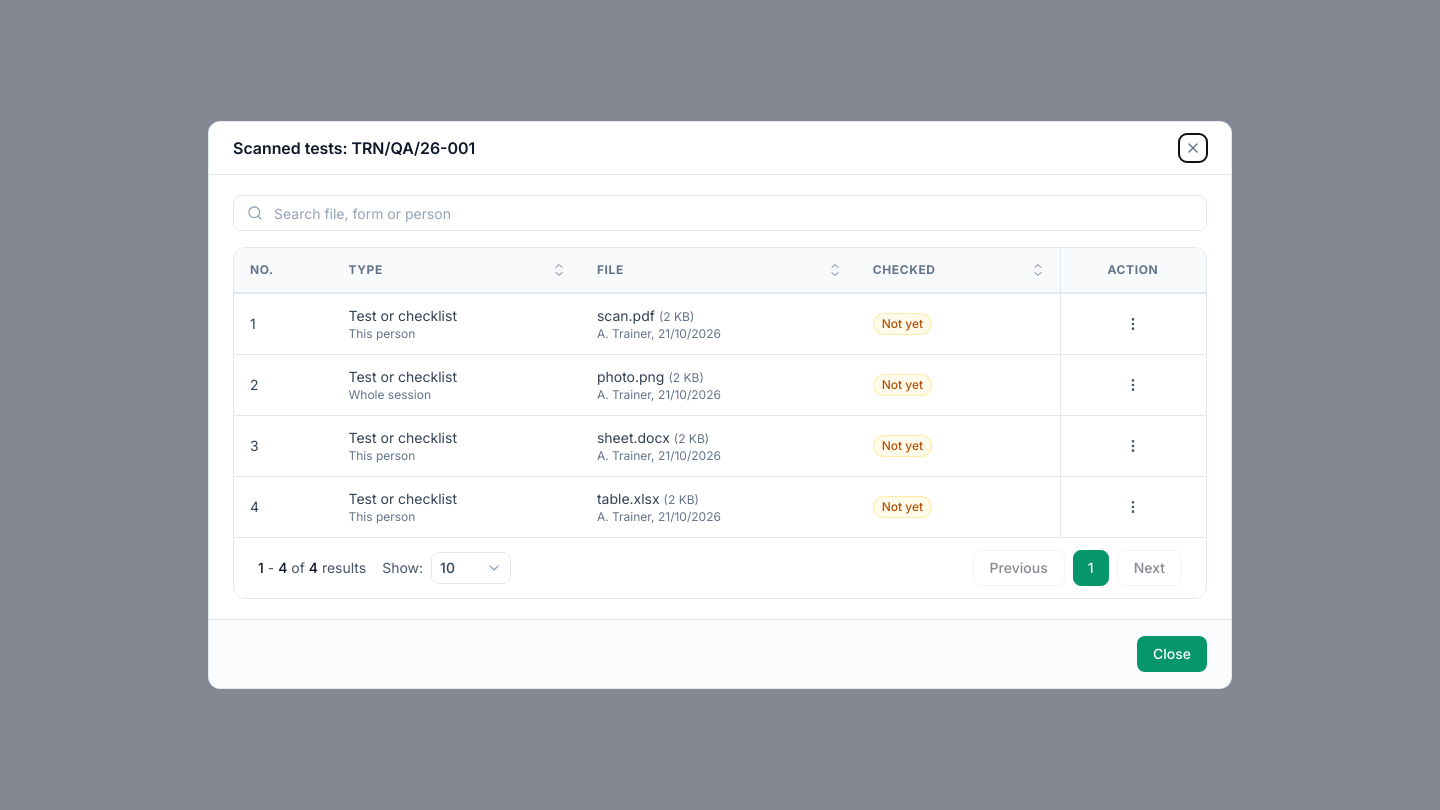
TrainingScannedTestsModal › puts View and Download in the menu of the row, and offers View only for a PDF, a picture and a Word file
The image size is (1440, 810).
Expected: the text "scan.pdf (2 KB)" is shown, left=597, top=307, right=694, bottom=324
Expected: the text "Whole session" is shown, left=348, top=387, right=431, bottom=402
Step 1. Click the button named "More actions" in the row of "scan.pdf" → (1133, 324), box left=1117, top=308, right=1149, bottom=340
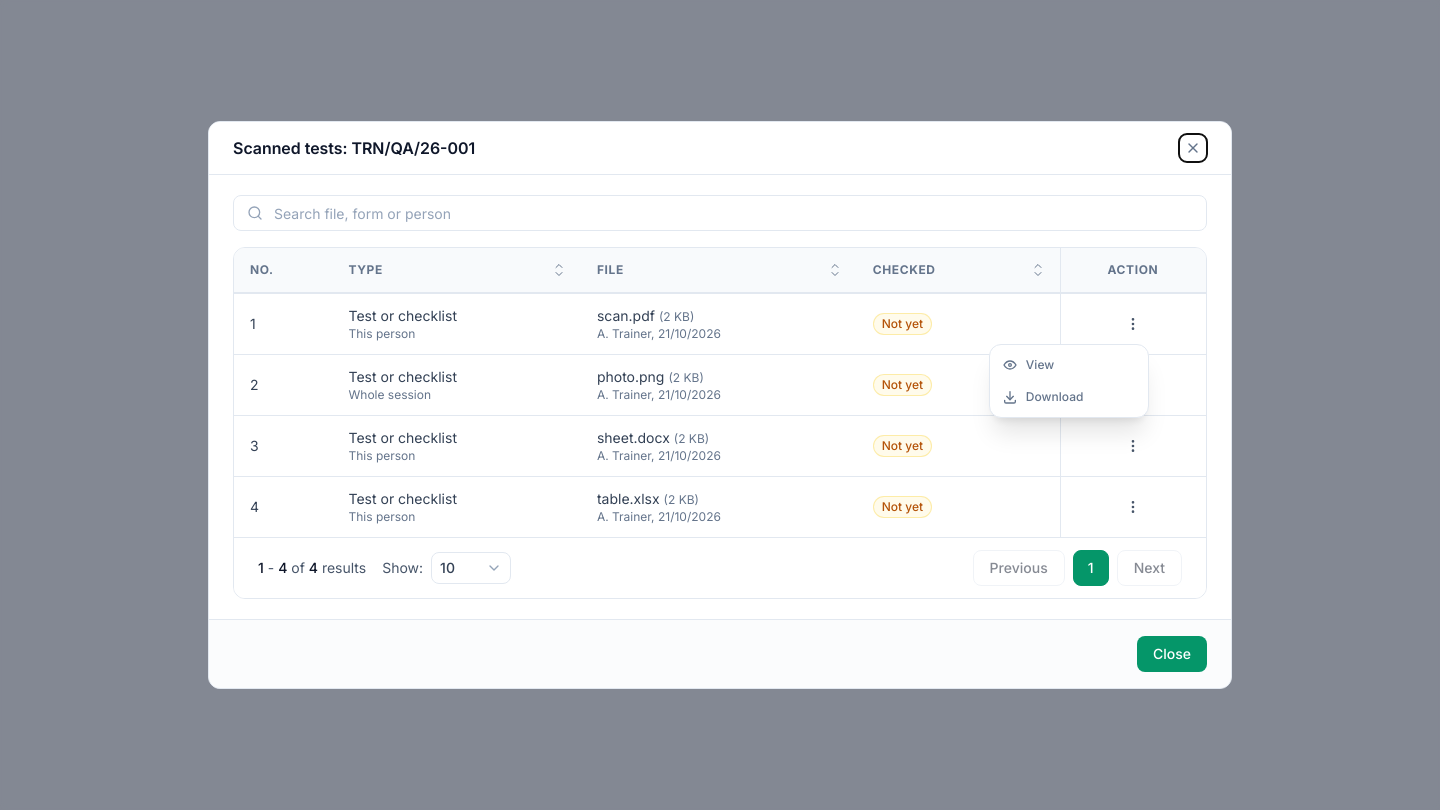
Expected: the text "View" is shown, left=1026, top=357, right=1054, bottom=373
Expected: the text "Download" is shown, left=1026, top=389, right=1083, bottom=405
Step 2. Click the button named "More actions" in the row of "table.xlsx" → (1133, 507), box left=1117, top=491, right=1149, bottom=523
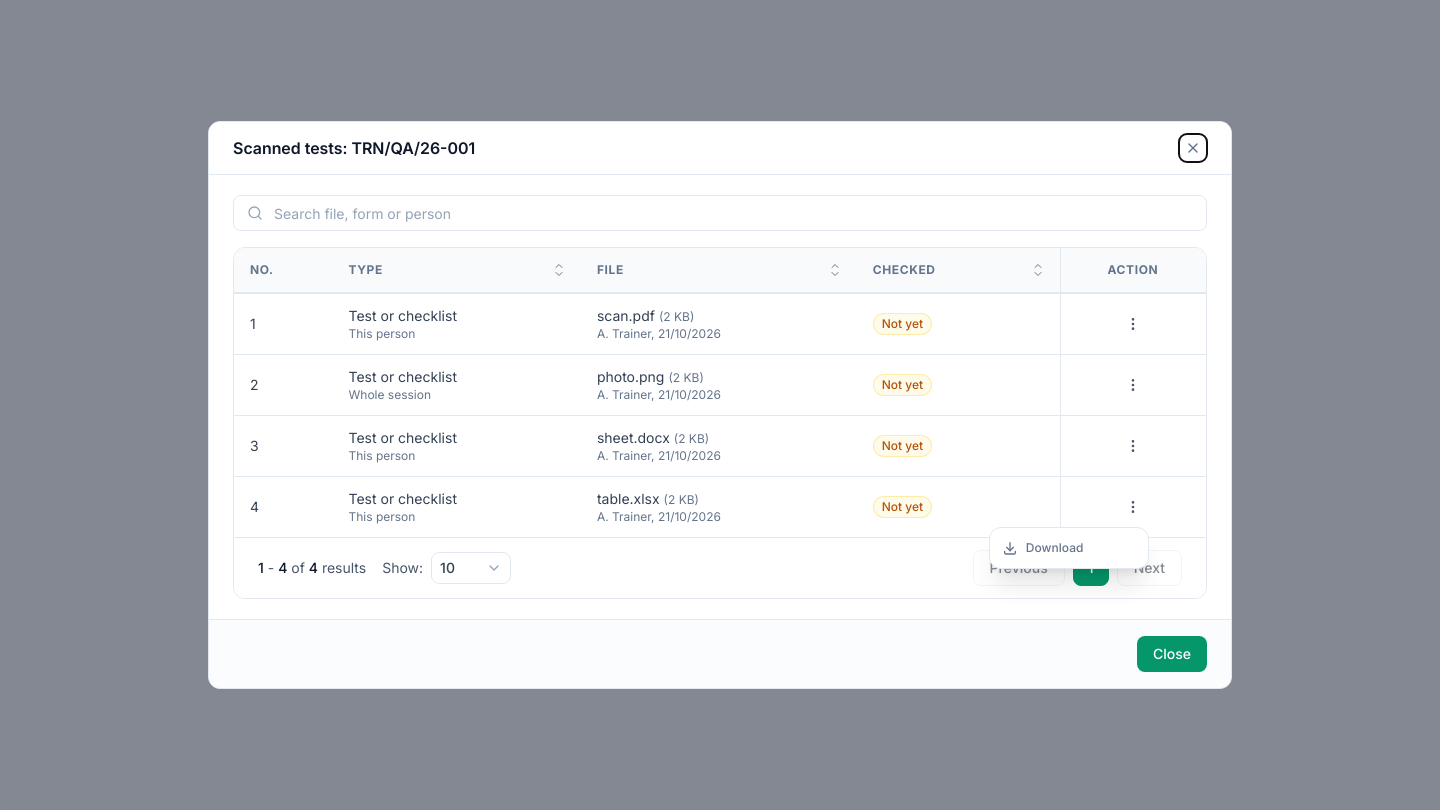
Expected: the text "Download" is shown, left=1026, top=540, right=1083, bottom=556
Expected: the button "View" is gone
